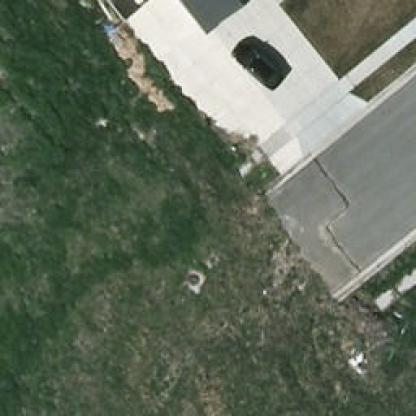car: (230, 40, 284, 92)
